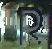Parking: (16, 4, 41, 43)
